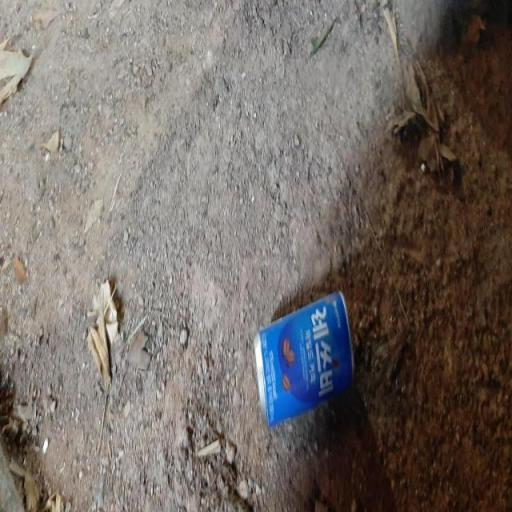metal: (250, 264, 362, 430)
